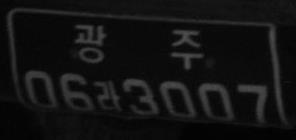0: (197, 82, 236, 123), (160, 80, 196, 119), (24, 70, 57, 109)
3: (123, 77, 159, 116)
6: (60, 72, 93, 111)
7: (236, 82, 268, 124)
광주_D: (74, 22, 204, 70)
라: (94, 79, 122, 113)
